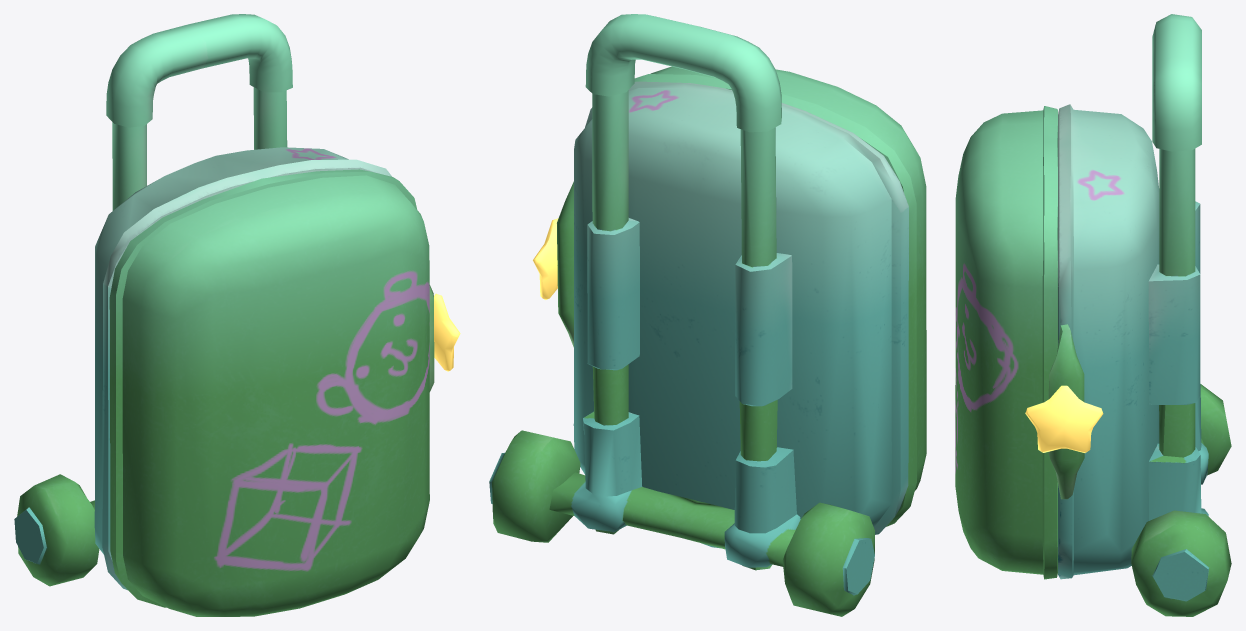
Rendered from NST_Suitcase_Mesh.fbx.
3 views of the same model, side by side, from view 1: azimuth 30°, elevation 25°; view 2: azimuth 150°, elevation 25°; view 3: azimuth 270°, elevation 25° (orthographic). The views are drawn at different scales.
Parts seen in each view (by area): view 1: NST_Suitcase_Openable_low, NST_Suitcase_low; view 2: NST_Suitcase_low, NST_Suitcase_Openable_low; view 3: NST_Suitcase_low, NST_Suitcase_Openable_low.
Boxes of the visible parts, left/top/right/bottom form: NST_Suitcase_Openable_low: left=109, top=169, right=429, bottom=616; NST_Suitcase_low: left=14, top=14, right=460, bottom=590; NST_Suitcase_low: left=489, top=14, right=908, bottom=616; NST_Suitcase_Openable_low: left=634, top=66, right=926, bottom=526; NST_Suitcase_low: left=1025, top=14, right=1231, bottom=616; NST_Suitcase_Openable_low: left=955, top=106, right=1057, bottom=579.
Bounding box in the file's own units: 37.1 × 51.16 × 25.32.
